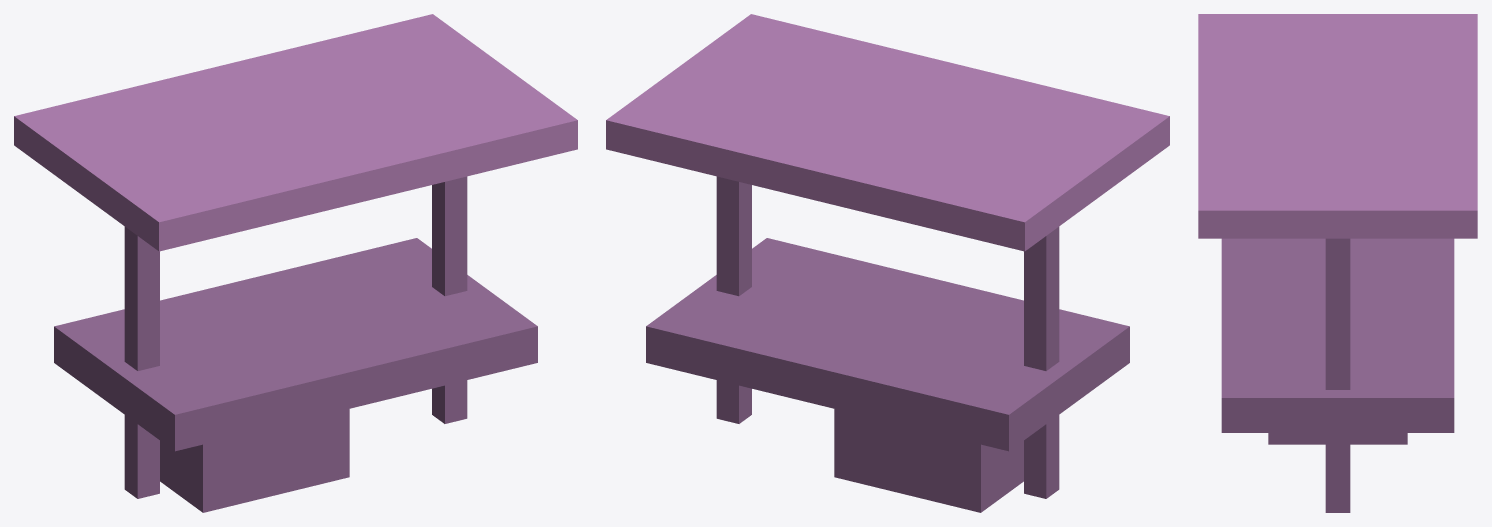
The model's file is market_stall.glb.
3 renders of one model, left to right at view 1: azimuth 30°, elevation 25°; view 2: azimuth 150°, elevation 25°; view 3: azimuth 270°, elevation 25°, orthographic. The views are drawn at different scales.
Parts seen in each view (by area): view 1: canopy, table, crate_0, post_-11, post_11; view 2: canopy, table, crate_0, post_-11, post_11; view 3: canopy, table, post_11, crate_0.
Boxes of the visible parts, x1,y1,x2,y2 form: canopy: [14, 14, 577, 251]; table: [54, 238, 537, 451]; crate_0: [160, 409, 349, 512]; post_-11: [124, 226, 159, 498]; post_11: [432, 176, 467, 423]; canopy: [606, 14, 1169, 251]; table: [646, 238, 1129, 451]; crate_0: [834, 409, 1023, 512]; post_-11: [1024, 226, 1059, 498]; post_11: [716, 176, 751, 423]; canopy: [1198, 14, 1477, 238]; table: [1221, 238, 1454, 432]; post_11: [1325, 238, 1350, 512]; crate_0: [1268, 433, 1407, 444].
Size of what is drawn, in the model's own units: 3 by 2.31 by 1.8.
